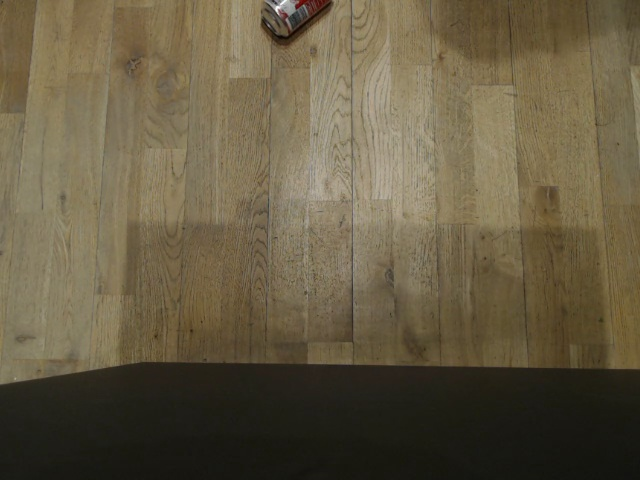cola: (256, 0, 326, 36)
